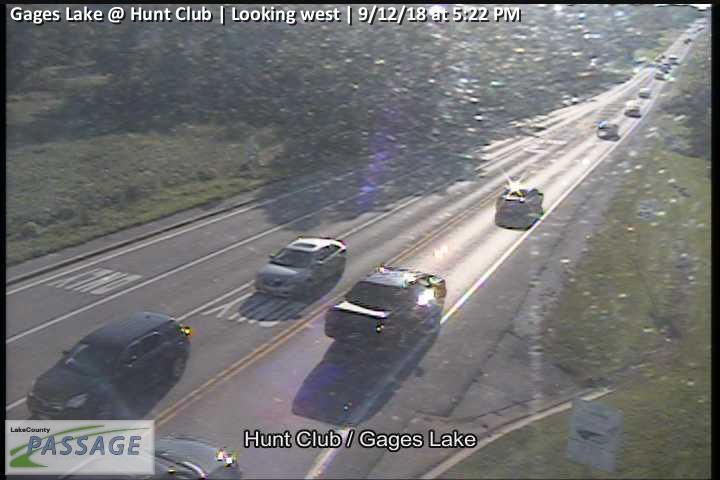SUV: (27, 311, 191, 428), (324, 267, 447, 348), (254, 237, 347, 301), (496, 188, 544, 228)
